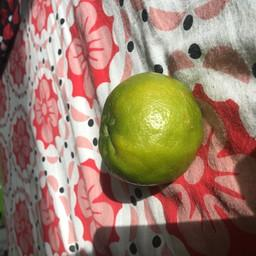Good_orange: (98, 69, 202, 189)
